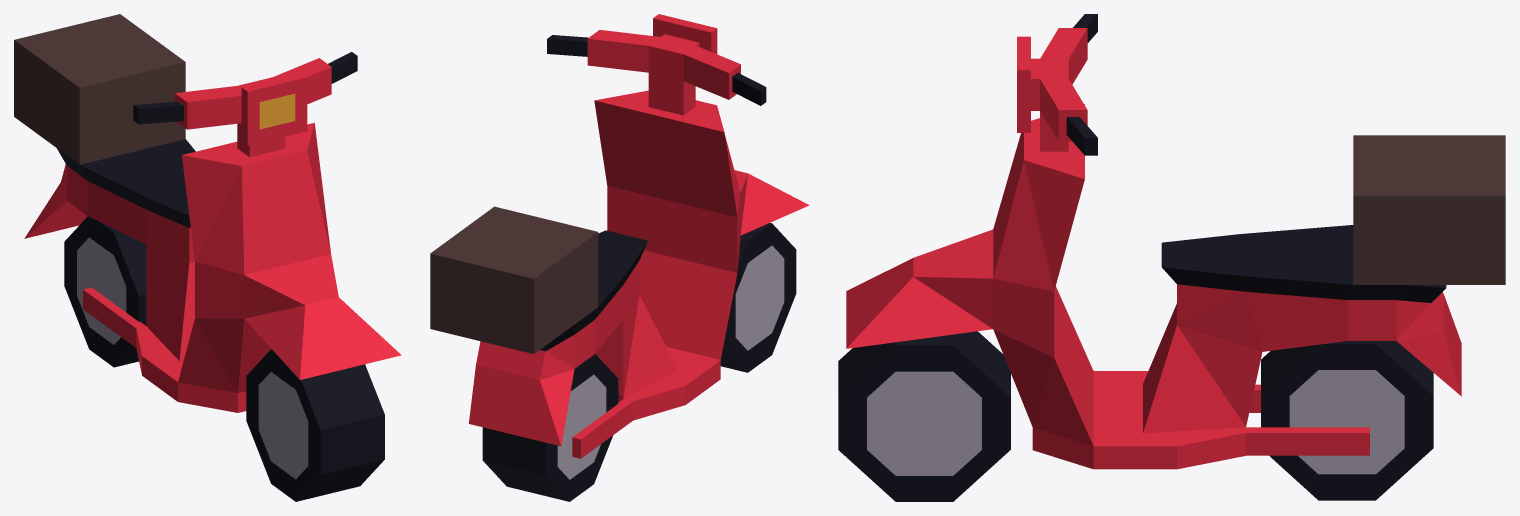
Rendered from scooter.obj.
The picture shows the model from 3 angles, left to right: view 1: azimuth 30°, elevation 25°; view 2: azimuth 150°, elevation 25°; view 3: azimuth 270°, elevation 25°; orthographic projection. The views are drawn at different scales.
Visible parts, largest first — view 1: SCOOTER; view 2: SCOOTER; view 3: SCOOTER.
Part boxes in pixels (x1,y1,x2,y2): SCOOTER: (14, 14, 401, 501); SCOOTER: (430, 14, 809, 501); SCOOTER: (838, 14, 1505, 501).
Bounding box in the file's own units: 0.6957 × 1.13 × 1.58.
